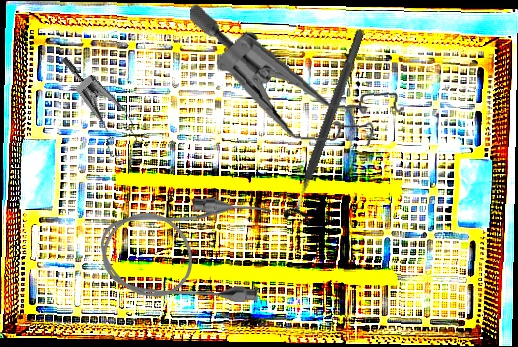Cannula: (100, 196, 271, 303)
Fixation Ring: (279, 24, 377, 228)
Speculum: (181, 0, 411, 154), (32, 54, 158, 168)
